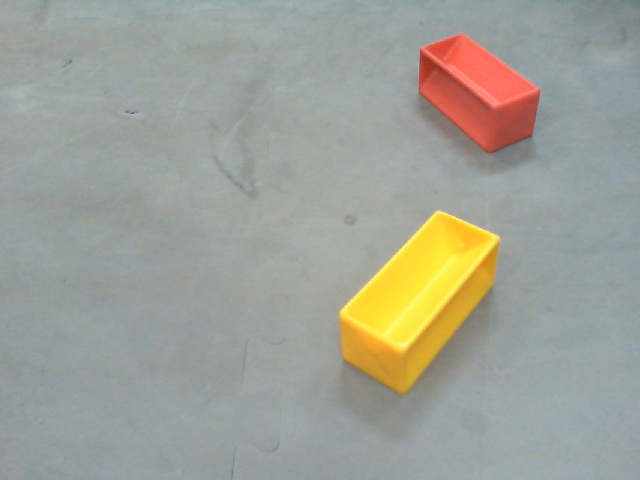RedSample: (414, 30, 542, 155)
YellowSample: (337, 204, 502, 395)
